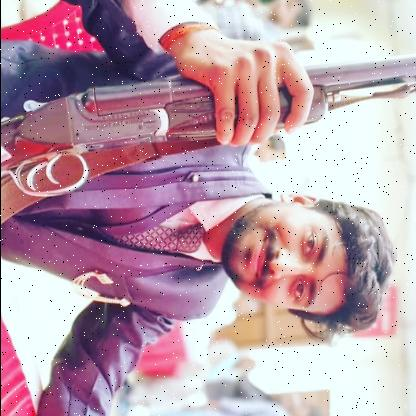rifle: (1, 56, 416, 224)
